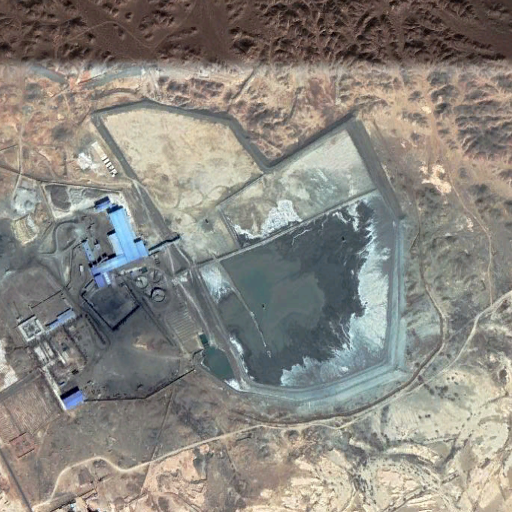tp: (186, 194, 409, 402)
